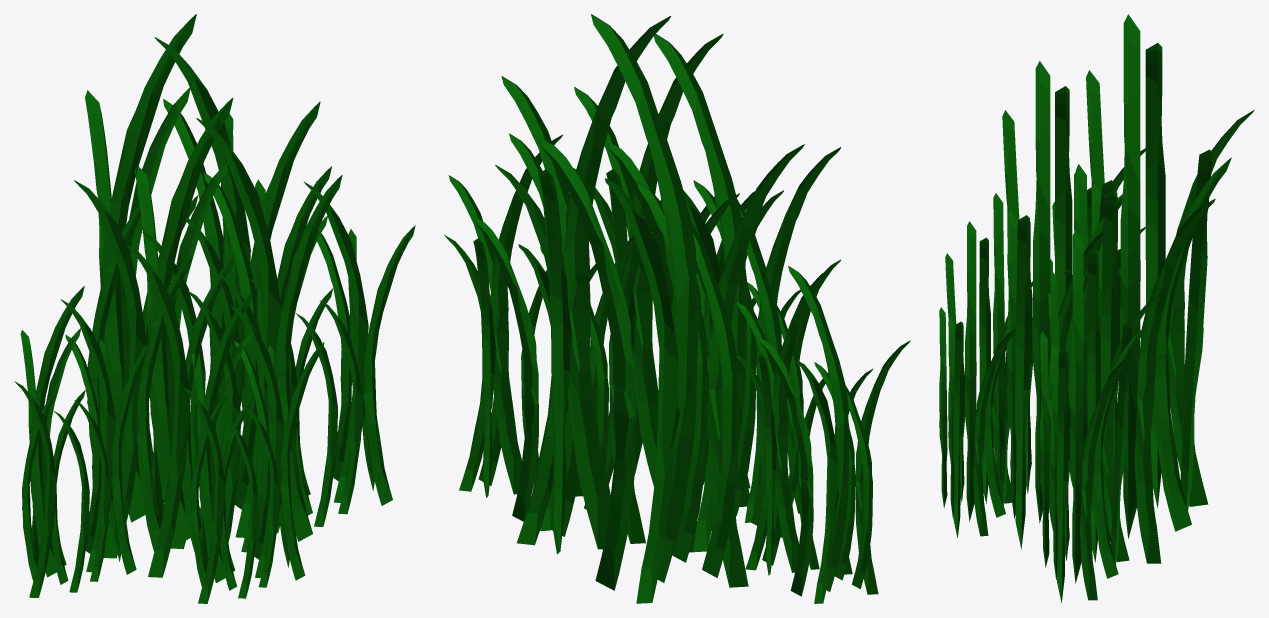
File: LP_Grass.glb
The picture shows the model from 3 angles, left to right: view 1: azimuth 30°, elevation 25°; view 2: azimuth 150°, elevation 25°; view 3: azimuth 270°, elevation 25°; orthographic projection. The views are drawn at different scales.
Visible parts, largest first — view 1: grass; view 2: grass; view 3: grass.
Part boxes in pixels (left/top/right/bottom): grass: left=14, top=14, right=415, bottom=603; grass: left=444, top=14, right=910, bottom=603; grass: left=939, top=14, right=1254, bottom=602.
Bounding box in the file's own units: 0.8158 × 0.9674 × 0.5465.
